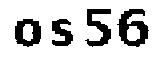5: (81, 5, 114, 50)
6: (119, 6, 150, 50)
o: (10, 16, 41, 47)
s: (47, 18, 74, 49)
